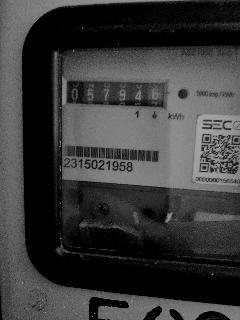1: (72, 89, 78, 100)
5: (135, 91, 141, 102)
6: (88, 89, 94, 101)
7: (152, 88, 158, 100)
8: (104, 90, 110, 101)
:: (119, 90, 125, 101)
